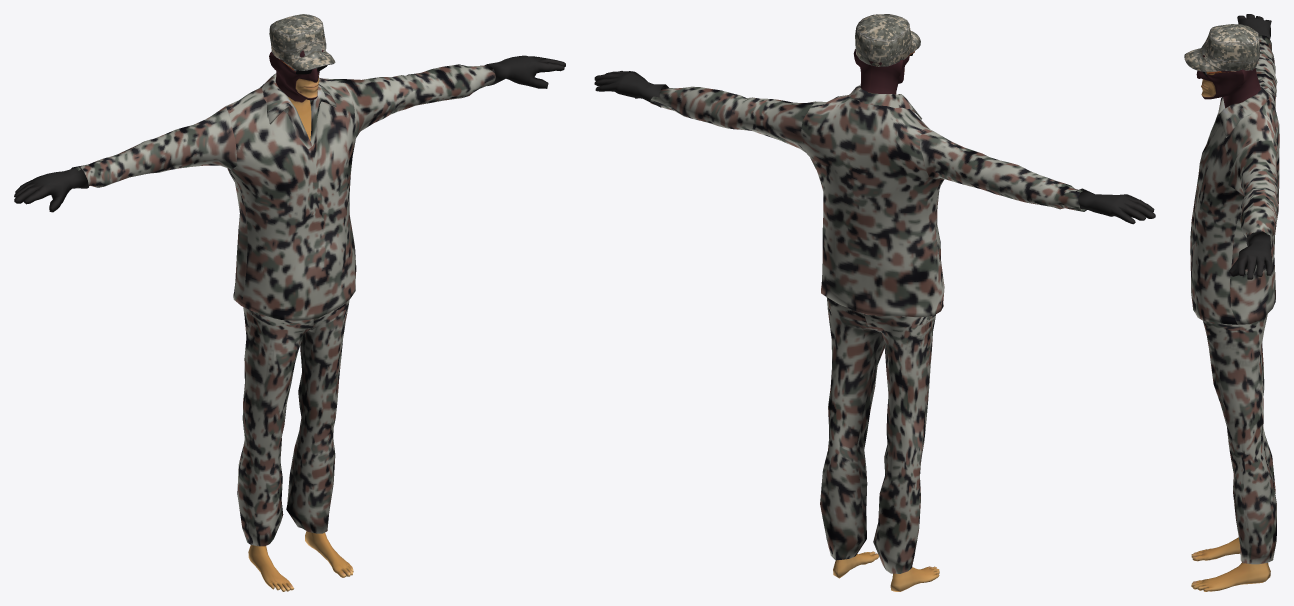
Rendered from inimigo neve.obj.
The picture shows the model from 3 angles, left to right: view 1: azimuth 30°, elevation 25°; view 2: azimuth 150°, elevation 25°; view 3: azimuth 270°, elevation 25°; orthographic projection. The views are drawn at different scales.
Parts seen in each view (by area): view 1: Tops, Bottoms, Body, Hats; view 2: Tops, Bottoms, Body, Hats; view 3: Tops, Bottoms, Body, Hats.
Part boxes in pixels (left/top/right/bottom): Tops: left=71, top=64, right=495, bottom=320; Bottoms: left=237, top=300, right=349, bottom=546; Body: left=14, top=49, right=565, bottom=591; Hats: left=269, top=14, right=335, bottom=70; Tops: left=650, top=85, right=1087, bottom=317; Bottoms: left=820, top=297, right=935, bottom=573; Body: left=594, top=49, right=1155, bottom=591; Hats: left=855, top=14, right=920, bottom=66; Tops: left=1190, top=35, right=1279, bottom=324; Bottoms: left=1203, top=314, right=1276, bottom=564; Body: left=1191, top=14, right=1272, bottom=591; Hats: left=1184, top=24, right=1259, bottom=71.
Bounding box in the file's own units: 186 × 178 × 28.19.
1 material, 1 textured.
